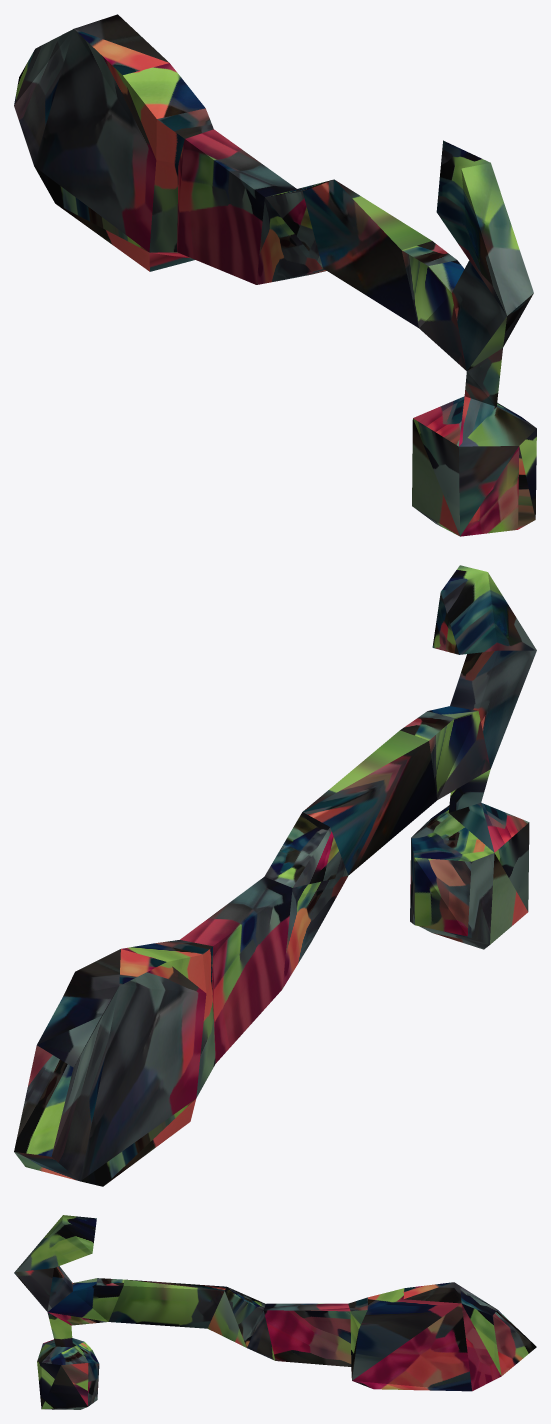
3 renders of one model, top to bottom at view 1: azimuth 30°, elevation 25°; view 2: azimuth 150°, elevation 25°; view 3: azimuth 270°, elevation 25°, orthographic. The views are drawn at different scales.
Parts seen in each view (by area): view 1: unknown; view 2: unknown; view 3: unknown.
Boxes of the visible parts, x1,y1,x2,y2 form: unknown: (14, 14, 536, 536); unknown: (14, 565, 536, 1186); unknown: (14, 1215, 536, 1409).
Size of the model in its own units: 0.0994 by 0.4013 by 1.01.
